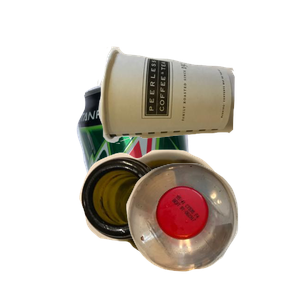glass: (77, 147, 295, 300)
metal: (74, 74, 257, 254)
plastic: (124, 161, 300, 300)
trash: (95, 44, 300, 180)
